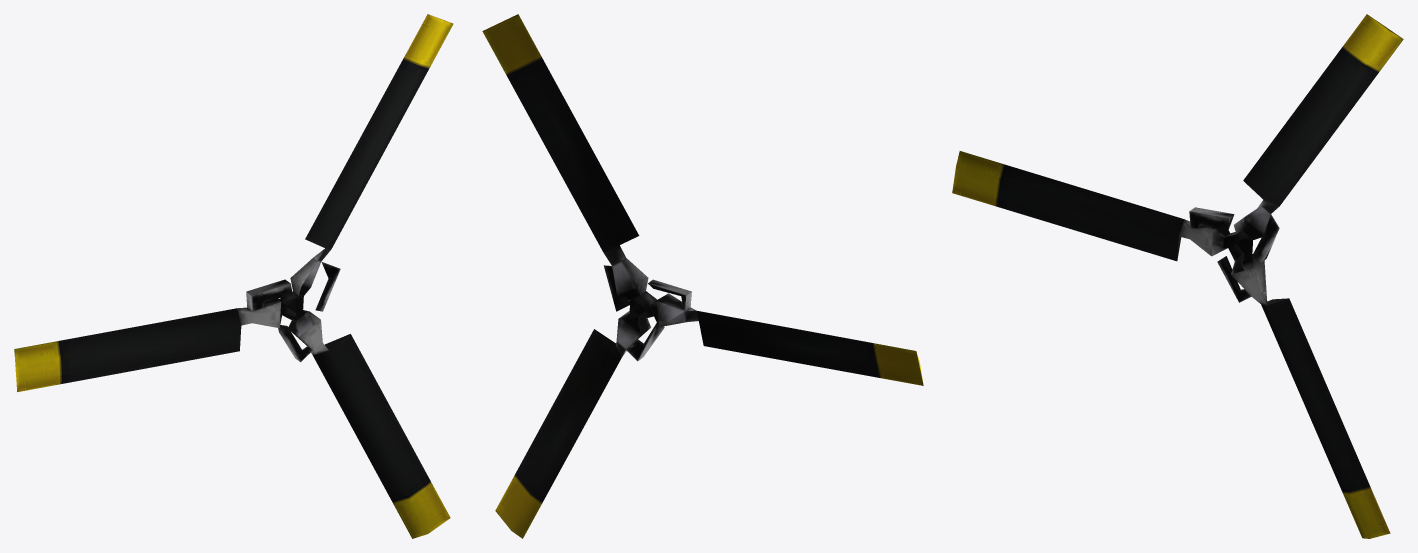
File: backBlade5.obj
3 views of the same model, side by side, from view 1: azimuth 30°, elevation 25°; view 2: azimuth 150°, elevation 25°; view 3: azimuth 330°, elevation 25° (orthographic). The views are drawn at different scales.
Parts seen in each view (by area): view 1: Null_glass.005_Body; view 2: Null_glass.005_Body; view 3: Null_glass.005_Body.
Part boxes in pixels (bbox=[...]): Null_glass.005_Body: bbox=[14, 14, 453, 538]; Null_glass.005_Body: bbox=[482, 14, 923, 538]; Null_glass.005_Body: bbox=[952, 14, 1403, 538].
Size of the model in its own units: 1.29 by 1.47 by 0.0838.
Materials: 1 (1 with a texture image).
